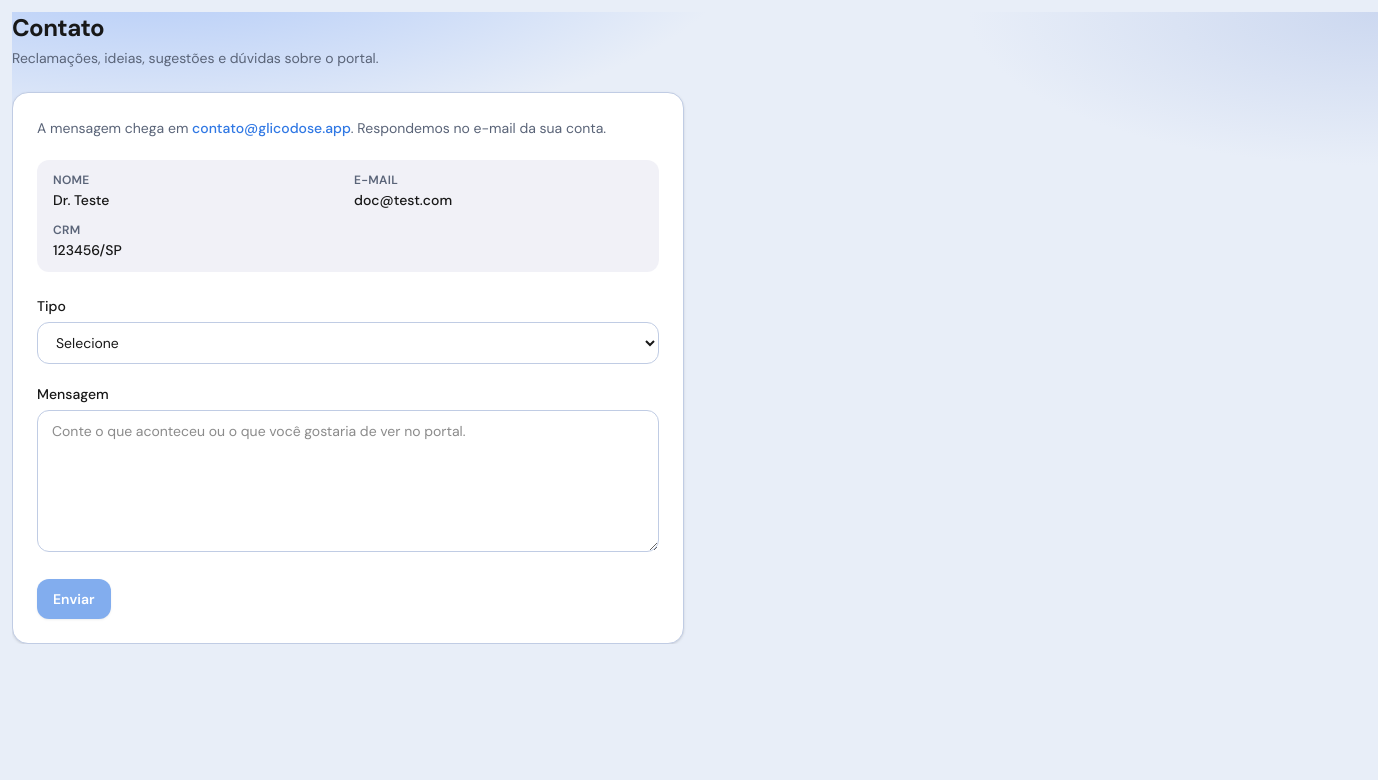
Test: ContactPage › shows a generic error when the failure is not an Error
Select "Ideia" in the dropdown labelled "Tipo" at (348, 343), box 37,322 -> 659,364
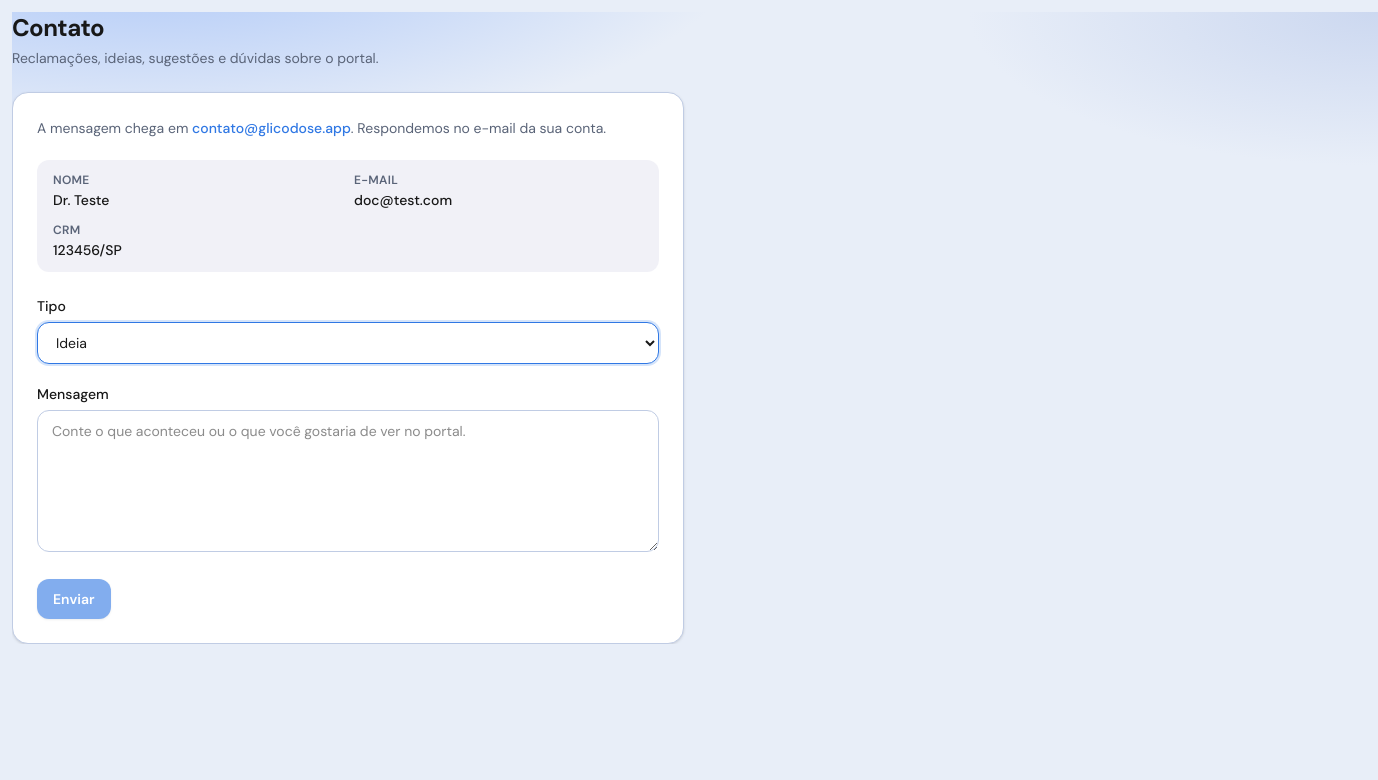
Type "Texto livre." into the text box labelled "Mensagem" at (348, 481), box 37,410 -> 659,552
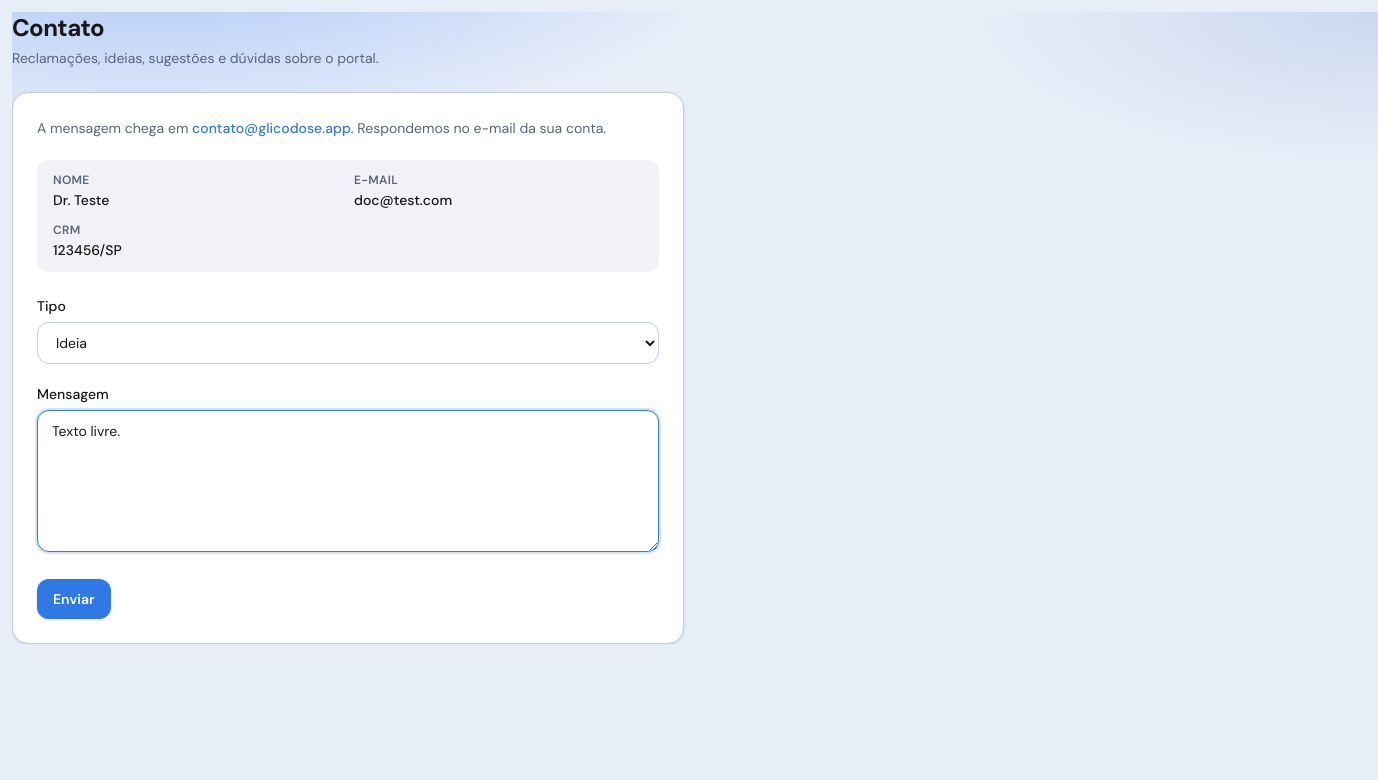
Click the button "Enviar" at (74, 599), box 37,579 -> 110,619
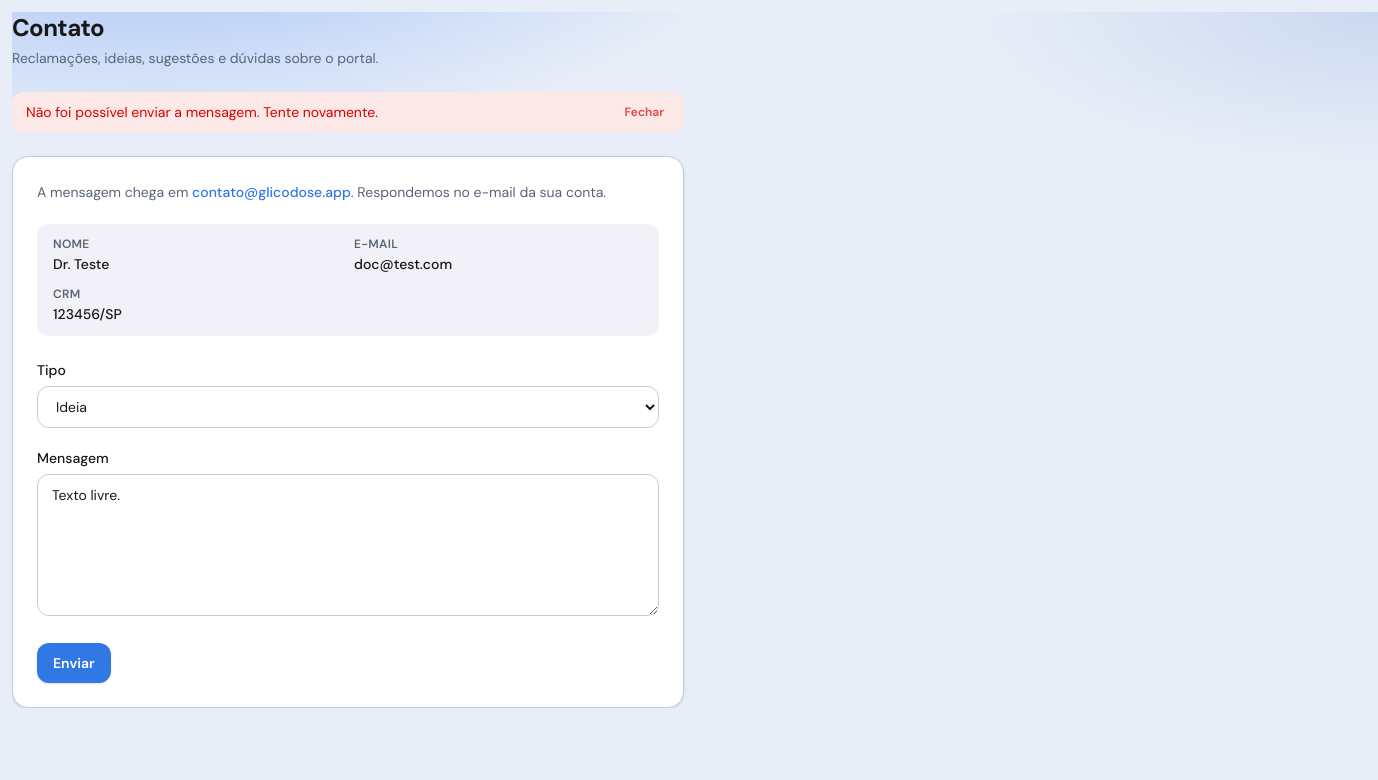
Result: the text "Não foi possível enviar a mensagem. Tente novamente." is shown at 26,103 -> 378,121
Click the button "Fechar" at (644, 112), box 618,102 -> 670,122
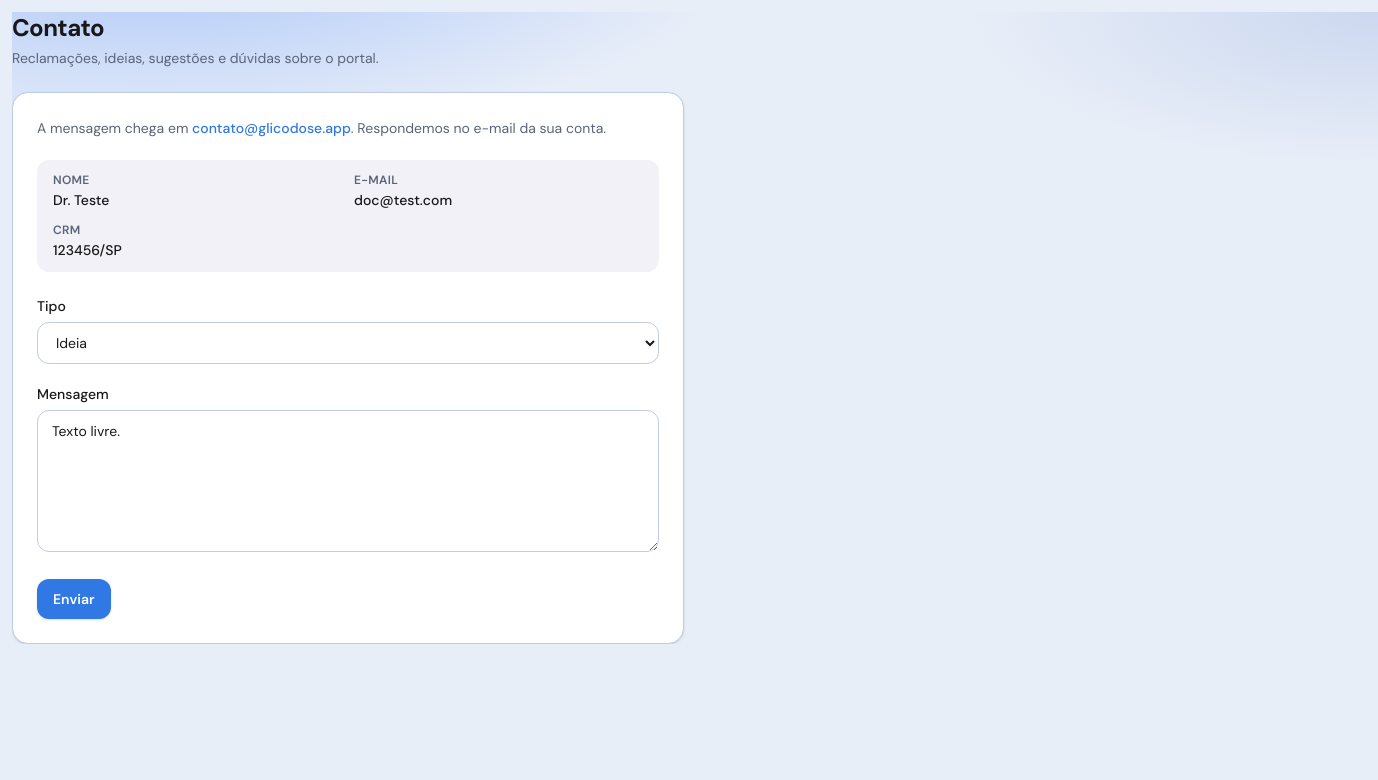
Result: the text "Não foi possível enviar a mensagem. Tente novamente." is gone
